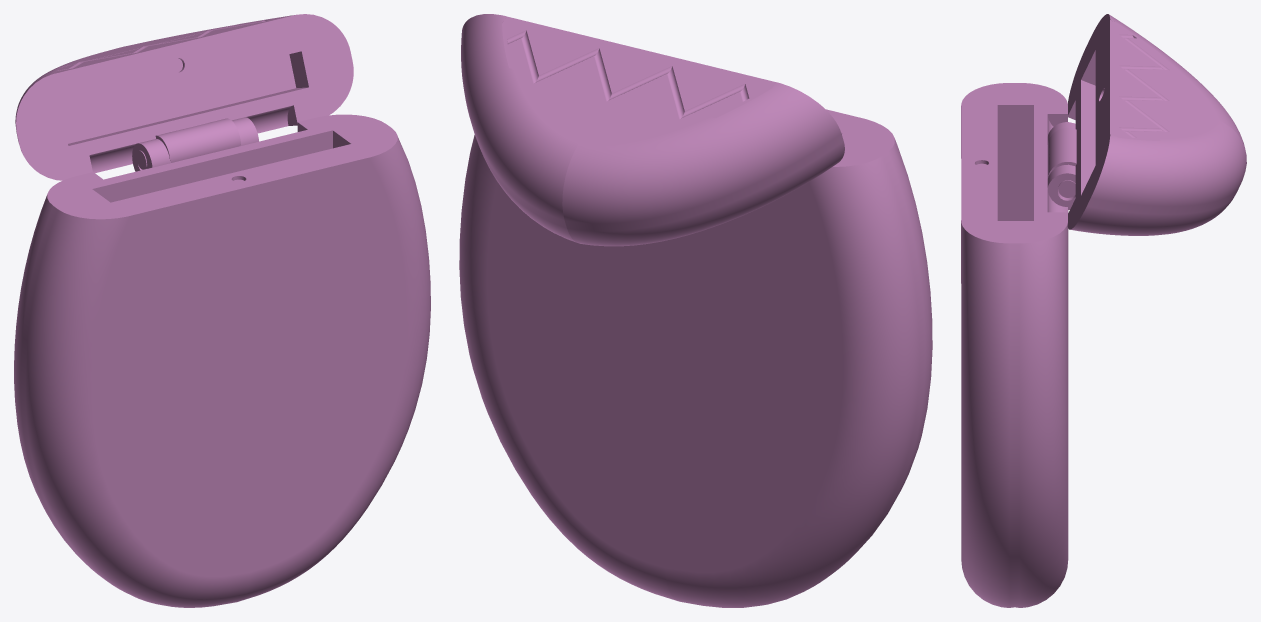
The model's file is 1hatchpod.glb.
The picture shows the model from 3 angles, left to right: view 1: azimuth 30°, elevation 25°; view 2: azimuth 150°, elevation 25°; view 3: azimuth 270°, elevation 25°; orthographic projection. The views are drawn at different scales.
Parts seen in each view (by area): view 1: Default(9BA8BB69-4350-4557-BE2F-2D8F5B5A09D7), Default(39F46F8C-08C4-46D4-98E0-48B184D1D01D); view 2: Default(9BA8BB69-4350-4557-BE2F-2D8F5B5A09D7), Default(39F46F8C-08C4-46D4-98E0-48B184D1D01D); view 3: Default(9BA8BB69-4350-4557-BE2F-2D8F5B5A09D7), Default(39F46F8C-08C4-46D4-98E0-48B184D1D01D).
Boxes of the visible parts, x1,y1,x2,y2 form: Default(9BA8BB69-4350-4557-BE2F-2D8F5B5A09D7): (14, 114, 430, 607); Default(39F46F8C-08C4-46D4-98E0-48B184D1D01D): (15, 14, 353, 180); Default(9BA8BB69-4350-4557-BE2F-2D8F5B5A09D7): (459, 109, 932, 607); Default(39F46F8C-08C4-46D4-98E0-48B184D1D01D): (461, 14, 844, 246); Default(9BA8BB69-4350-4557-BE2F-2D8F5B5A09D7): (961, 83, 1076, 607); Default(39F46F8C-08C4-46D4-98E0-48B184D1D01D): (1047, 14, 1246, 235).
Bounding box in the file's own units: 0.0996 × 0.1234 × 0.0626.
